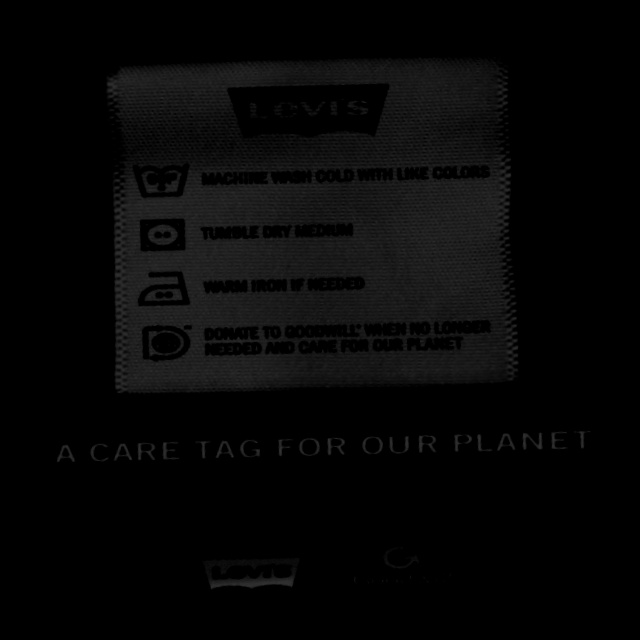30C: (117, 138, 207, 220)
iron_medium: (122, 250, 207, 328)
tumble_dry_medium: (123, 201, 203, 272)
